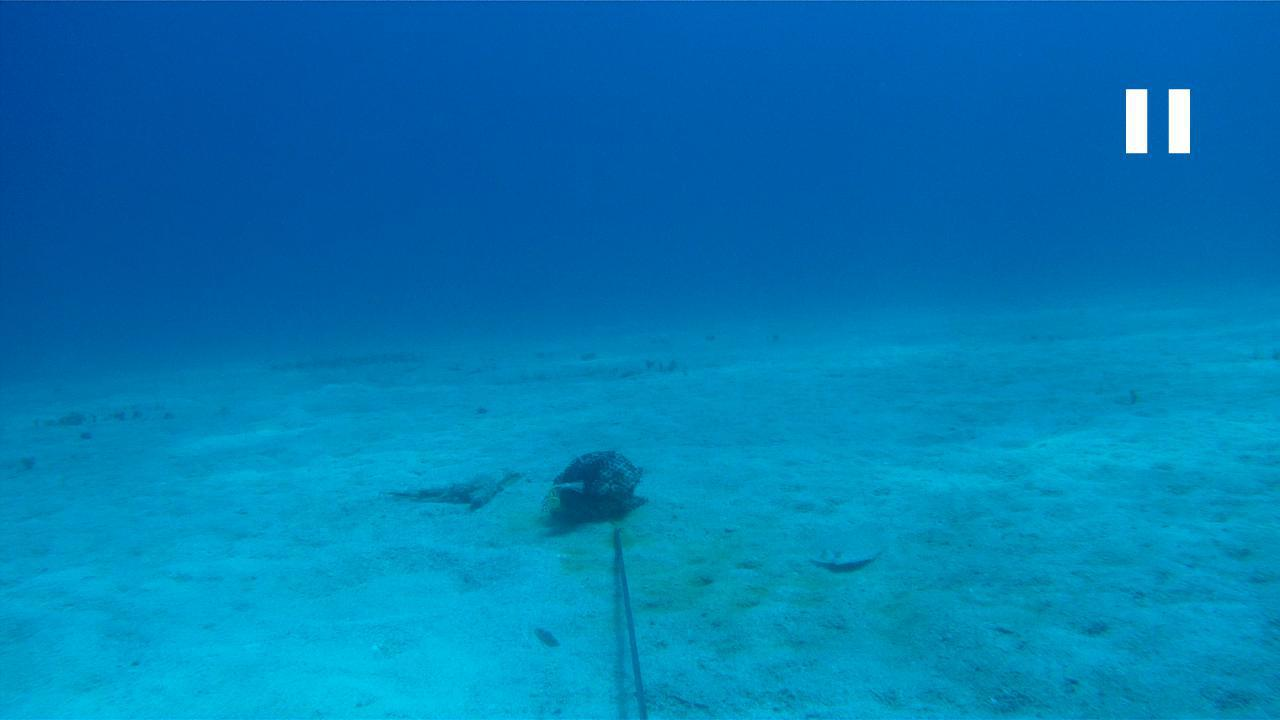bothus: (805, 527, 887, 571)
